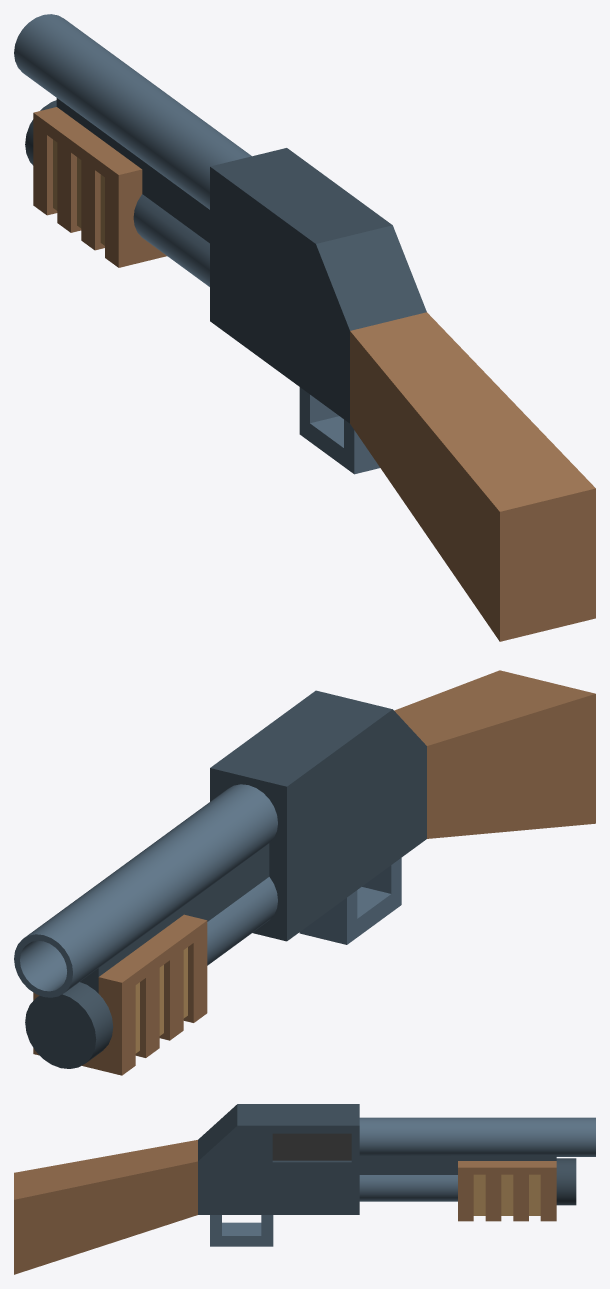
Rendered from shotgun.obj.
The picture shows the model from 3 angles, top to bottom: view 1: azimuth 30°, elevation 25°; view 2: azimuth 150°, elevation 25°; view 3: azimuth 270°, elevation 25°; orthographic projection. The views are drawn at different scales.
Parts seen in each view (by area): view 1: shotgun, grip; view 2: shotgun, grip; view 3: shotgun, grip.
Boxes of the visible parts, x1,y1,x2,y2 form: shotgun: [14, 14, 595, 641]; grip: [33, 107, 166, 267]; shotgun: [14, 670, 595, 1068]; grip: [33, 914, 207, 1075]; shotgun: [14, 1104, 595, 1274]; grip: [458, 1161, 556, 1221].
Size of the model in its own units: 0.0622 by 0.1569 by 0.5653.
